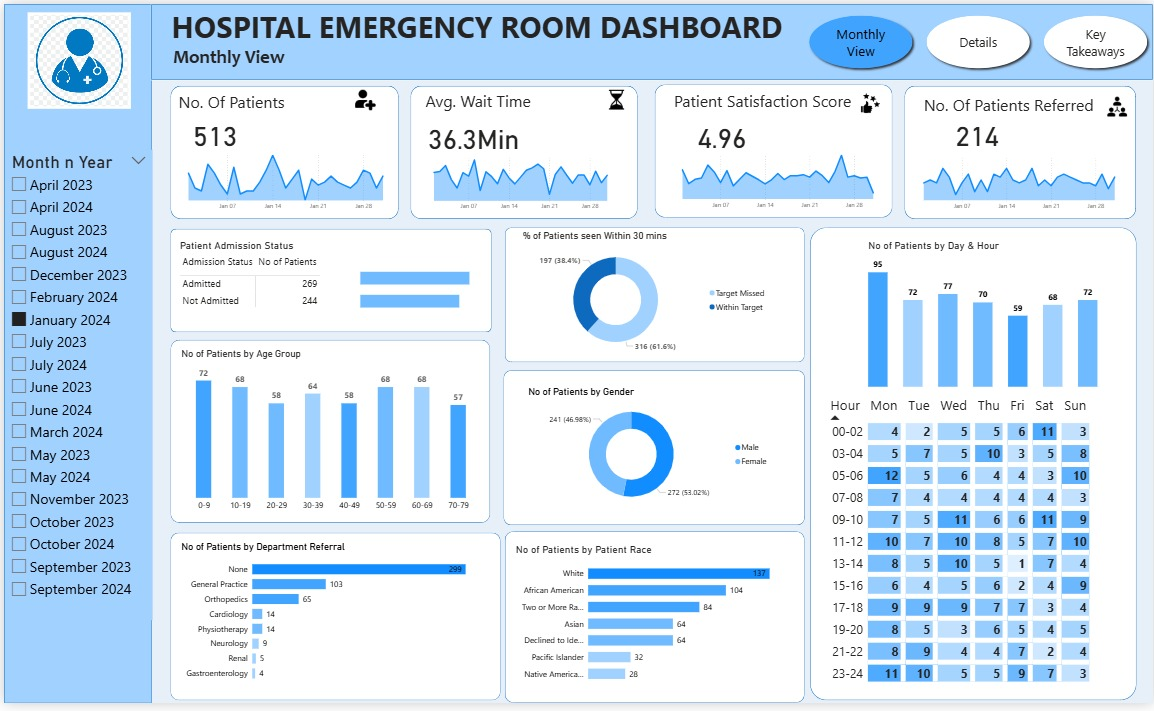

What the dashboard file says about the page in this screenshot:
{"tool":"powerbi","page":{"name":"Monthly View","canvas":[2300,1400],"ordinal":0},"visuals":[{"type":"shape","box":[333.3,163.3,456.7,266.7],"z":0},{"type":"card","fields":{"Values":["Hospital ER_Hospital ER (2).No of Patients"]},"box":[340.9,223.7,159.8,67.5],"z":1000},{"type":"textbox","box":[344.5,170.5,252.1,56.8],"z":2000},{"type":"image","box":[696,166.9,52,51],"z":3000},{"type":"shape","box":[294.7,0,2006.4,152.7],"z":4000},{"type":"areaChart","fields":{"Category":["Calendar Table.Date.Variation.Date Hierarchy.Year","Calendar Table.Date.Variation.Date Hierarchy.Quarter","Calendar Table.Date.Variation.Date Hierarchy.Month","Calendar Table.Date.Variation.Date Hierarchy.Day"],"Y":["Hospital ER_Hospital ER (2).No of Patients"]},"box":[346.7,290,433.3,133.3],"z":5000},{"type":"slicer","fields":{"Values":["Calendar Table.Month n Year"]},"box":[1992.2,0,309,113.6],"z":6000},{"type":"shape","box":[813.2,163.4,454.6,266.3],"z":7000},{"type":"textbox","box":[838.1,166.9,248.6,60.4],"z":8000},{"type":"card","fields":{"Values":["Hospital ER_Hospital ER (2).Avg Wait Time"]},"box":[838.1,230.8,202.4,67.5],"z":9000},{"type":"areaChart","fields":{"Category":["Calendar Table.Date.Variation.Date Hierarchy.Year","Calendar Table.Date.Variation.Date Hierarchy.Quarter","Calendar Table.Date.Variation.Date Hierarchy.Month","Calendar Table.Date.Variation.Date Hierarchy.Day"],"Y":["Avg(Hospital ER_Hospital ER (2).Patient Waittime)"]},"box":[838.1,291.2,390.6,131.4],"z":10000},{"type":"image","box":[1200.3,166.9,53.3,49.7],"z":11000},{"type":"shape","box":[1303.3,159.8,475.9,266.3],"z":12000},{"type":"shape","box":[1803.3,163.3,463.3,266.7],"z":13000},{"type":"textbox","box":[1335.2,166.9,390.6,63.9],"z":14000},{"type":"image","box":[1705,173,58.5,52.2],"z":15000},{"type":"card","fields":{"Values":["Avg(Hospital ER_Hospital ER (2).Patient Satisfaction Score)"]},"box":[1335.2,227.3,202.4,67.5],"z":16000},{"type":"areaChart","fields":{"Category":["Calendar Table.Date.Variation.Date Hierarchy.Year","Calendar Table.Date.Variation.Date Hierarchy.Quarter","Calendar Table.Date.Variation.Date Hierarchy.Month","Calendar Table.Date.Variation.Date Hierarchy.Day"],"Y":["Avg(Hospital ER_Hospital ER (2).Patient Satisfaction Score)"]},"box":[1335.2,287.6,426.1,131.4],"z":17000},{"type":"textbox","box":[1836,174,390.6,63.9],"z":18000},{"type":"image","box":[2198,181.8,62.7,50],"z":19000},{"type":"card","fields":{"Values":["Hospital ER_Hospital ER (2).Referral Rate"]},"box":[1846.6,223.7,202.4,67.5],"z":20000},{"type":"areaChart","fields":{"Category":["Calendar Table.Date.Variation.Date Hierarchy.Year","Calendar Table.Date.Variation.Date Hierarchy.Quarter","Calendar Table.Date.Variation.Date Hierarchy.Month","Calendar Table.Date.Variation.Date Hierarchy.Day"],"Y":["Hospital ER_Hospital ER (2).Referral Rate"]},"box":[1818.2,291.2,426.1,131.4],"z":21000},{"type":"textbox","box":[331.7,0,1281,88.9],"z":22000},{"type":"textbox","box":[333.7,79.2,411.3,59],"z":23000},{"type":"shape","box":[0,0,296.4,1400],"z":24000},{"type":"shape","box":[332.1,450,642.9,207.1],"z":25000},{"type":"image","box":[46.4,17.9,207.1,192.9],"z":26000},{"type":"pivotTable","title":"Patient Admission Status","fields":{"Rows":["Hospital ER_Hospital ER (2).Admission Status"],"Values":["Hospital ER_Hospital ER (2).No of Patients"]},"box":[346.4,471.4,357.1,164.3],"z":27000},{"type":"barChart","fields":{"Category":["Hospital ER_Hospital ER (2).Admission Status"],"Y":["Hospital ER_Hospital ER (2).No of Patients"]},"box":[707.1,496.4,253.6,139.3],"z":28000},{"type":"shape","box":[1003.3,446.7,600,270],"z":29000},{"type":"donutChart","title":"% of Patients seen Within 30 mins","fields":{"Category":["Hospital ER_Hospital ER (2).WaitTime Status"],"Y":["Hospital ER_Hospital ER (2).No of Patients"]},"box":[1033.3,453.3,503.3,256.7],"z":30000},{"type":"shape","box":[333.3,673.3,640,366.7],"z":31000},{"type":"columnChart","fields":{"Y":["Hospital ER_Hospital ER (2).No of Patients"],"Category":["Hospital ER_Hospital ER (2).Age Group"]},"box":[350,689.3,610.7,335.7],"z":32000},{"type":"shape","box":[1000,733.3,603.3,310],"z":33000},{"type":"donutChart","title":"No of Patients by Gender","fields":{"Y":["Hospital ER_Hospital ER (2).No of Patients"],"Category":["Hospital ER_Hospital ER (2).Full Gender"]},"box":[1043.3,763.3,496.7,253.3],"z":34000},{"type":"shape","box":[332.1,1057.1,660.7,335.7],"z":35000},{"type":"clusteredBarChart","fields":{"Category":["Hospital ER_Hospital ER (2).Department Referral"],"Y":["Hospital ER_Hospital ER (2).No of Patients"]},"box":[350,1075,610.7,292.9],"z":36000},{"type":"shape","box":[1003.3,1056.7,600,343.3],"z":37000},{"type":"clusteredBarChart","fields":{"Category":["Hospital ER_Hospital ER (2).Patient Race"],"Y":["Hospital ER_Hospital ER (2).No of Patients"]},"box":[1020,1080,550,290],"z":38000},{"type":"shape","box":[1613.3,446.7,653.3,946.7],"z":39000},{"type":"pivotTable","fields":{"Rows":["Hospital ER_Hospital ER (2).Waittime Interval"],"Columns":["Calendar Table.Day Name"],"Values":["Hospital ER_Hospital ER (2).No of Patients"]},"box":[1643.3,776.7,583.3,606.7],"z":40000},{"type":"columnChart","title":"No of Patients by Day & Hour","fields":{"Category":["Calendar Table.Day Name"],"Y":["Hospital ER_Hospital ER (2).No of Patients"]},"box":[1725,471.4,471.4,300],"z":41000}]}

Visuals, with their boxes in screenshot pixels (x1, y1, x2, y2), scaled from the page's 2300x1400 canvas onto the 1154x711 screenshot:
shape: 167/83/396/218
card - Hospital ER_Hospital ER (2).No of Patients: 171/114/251/148
textbox: 173/87/299/115
image: 349/85/375/111
shape: 148/0/1153/78
areaChart - Calendar Table.Date.Variation.Date Hierarchy.Year x Calendar Table.Date.Variation.Date Hierarchy.Quarter: 174/147/391/215
slicer - Calendar Table.Month n Year: 1000/0/1153/58
shape: 408/83/636/218
textbox: 421/85/545/115
card - Hospital ER_Hospital ER (2).Avg Wait Time: 421/117/522/151
areaChart - Calendar Table.Date.Variation.Date Hierarchy.Year x Calendar Table.Date.Variation.Date Hierarchy.Quarter: 421/148/616/215
image: 602/85/629/110
shape: 654/81/893/216
shape: 905/83/1137/218
textbox: 670/85/866/117
image: 855/88/885/114
card - Avg(Hospital ER_Hospital ER (2).Patient Satisfaction Score): 670/115/771/150
areaChart - Calendar Table.Date.Variation.Date Hierarchy.Year x Calendar Table.Date.Variation.Date Hierarchy.Quarter: 670/146/884/213
textbox: 921/88/1117/121
image: 1103/92/1134/118
card - Hospital ER_Hospital ER (2).Referral Rate: 927/114/1028/148
areaChart - Calendar Table.Date.Variation.Date Hierarchy.Year x Calendar Table.Date.Variation.Date Hierarchy.Quarter: 912/148/1126/215
textbox: 166/0/809/45
textbox: 167/40/374/70
shape: 0/0/149/710
shape: 167/229/489/334
image: 23/9/127/107
"Patient Admission Status" pivotTable: 174/239/353/323
barChart - Hospital ER_Hospital ER (2).Admission Status x Hospital ER_Hospital ER (2).No of Patients: 355/252/482/323
shape: 503/227/804/364
"% of Patients seen Within 30 mins" donutChart: 518/230/771/361
shape: 167/342/488/528
columnChart - Hospital ER_Hospital ER (2).No of Patients x Hospital ER_Hospital ER (2).Age Group: 176/350/482/521
shape: 502/372/804/530
"No of Patients by Gender" donutChart: 523/388/773/516
shape: 167/537/498/707
clusteredBarChart - Hospital ER_Hospital ER (2).Department Referral x Hospital ER_Hospital ER (2).No of Patients: 176/546/482/695
shape: 503/537/804/710
clusteredBarChart - Hospital ER_Hospital ER (2).Patient Race x Hospital ER_Hospital ER (2).No of Patients: 512/548/788/696
shape: 809/227/1137/708
pivotTable - Hospital ER_Hospital ER (2).Waittime Interval x Calendar Table.Day Name: 825/394/1117/703
"No of Patients by Day & Hour" columnChart: 866/239/1102/392
